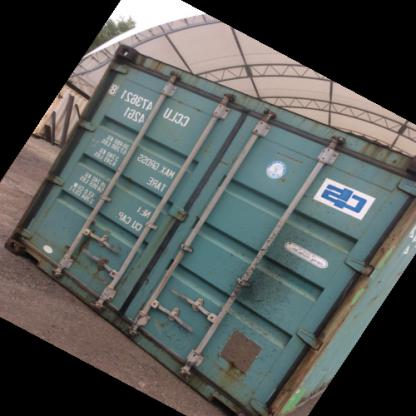Damage: (202, 298, 260, 395), (236, 218, 286, 309), (74, 241, 122, 306)
